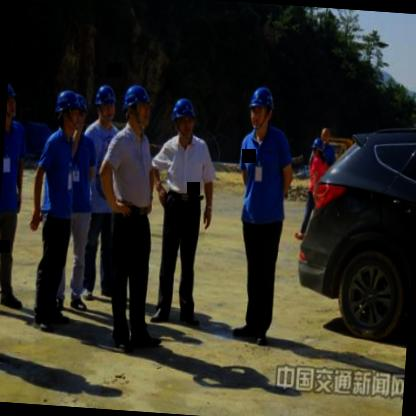head: (318, 122, 334, 146)
helmet: (120, 80, 156, 132), (246, 82, 277, 132), (167, 94, 200, 140), (92, 81, 119, 130), (54, 86, 81, 134), (72, 92, 89, 139), (6, 78, 22, 122), (310, 136, 325, 158)
